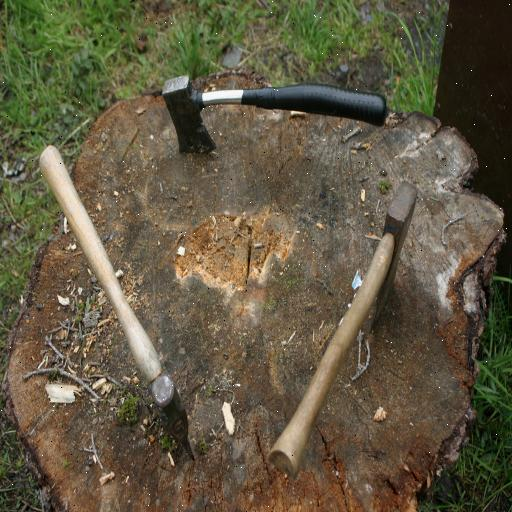Axe: (42, 146, 194, 458), (270, 179, 418, 477), (159, 68, 388, 154)
